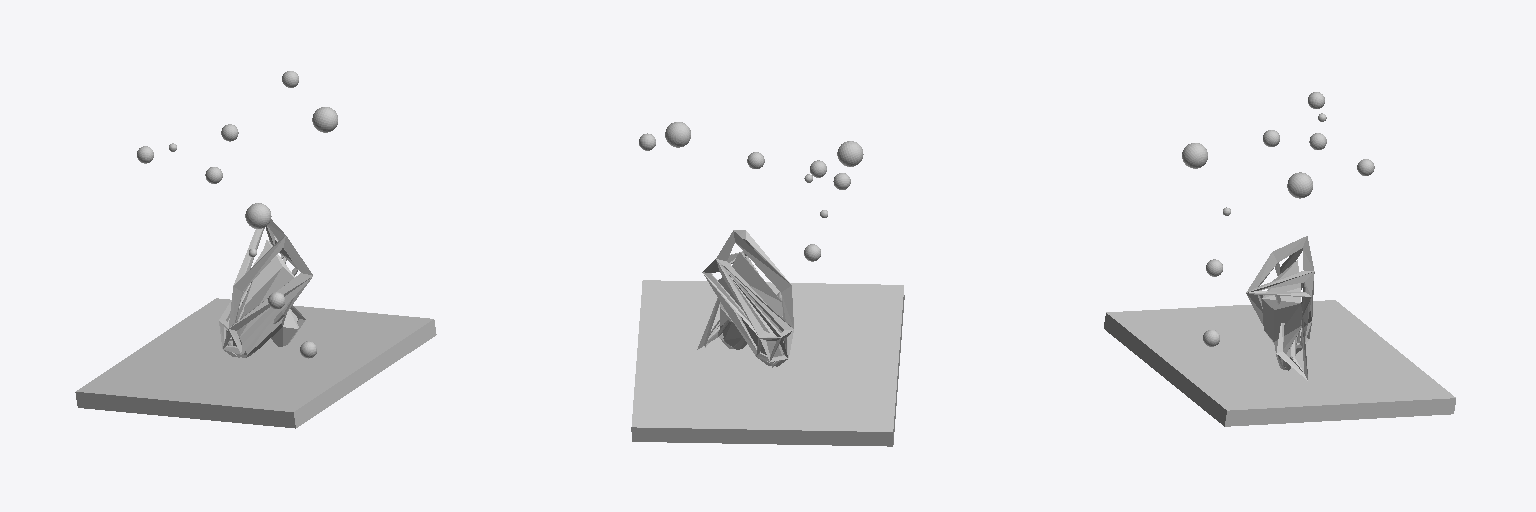
The model's file is kiki.obj.
3 views of the same model, side by side, from view 1: azimuth 30°, elevation 25°; view 2: azimuth 150°, elevation 25°; view 3: azimuth 270°, elevation 25° (orthographic).
Visible parts, largest first — view 1: Cube, Icosphere.002, Icosphere.001, Sphere.001, Sphere.006; view 2: Cube, Icosphere.002, Icosphere.001, Sphere.001, Sphere.006; view 3: Cube, Icosphere.002, Icosphere.001, Sphere.006, Sphere.001.
Part boxes in pixels (x1,y1,x2,y2): Cube: (75,298,436,428); Icosphere.002: (219,219,312,357); Icosphere.001: (232,240,298,357); Sphere.001: (312,107,337,132); Sphere.006: (245,203,271,228); Cube: (631,280,904,446); Icosphere.002: (697,230,793,367); Icosphere.001: (718,252,783,362); Sphere.001: (665,122,690,147); Sphere.006: (837,141,863,166); Cube: (1104,300,1455,426); Icosphere.002: (1246,236,1314,380); Icosphere.001: (1262,260,1302,368); Sphere.006: (1182,143,1207,168); Sphere.001: (1287,172,1312,198).
Size of the model in its own units: 20.22 by 16.95 by 20.21.